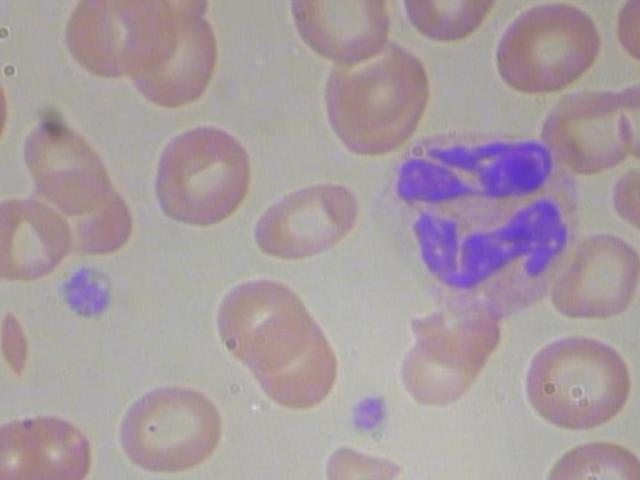Platelets: (300, 25, 444, 167), (0, 178, 82, 287)
RBC: (508, 319, 640, 447), (138, 112, 271, 238), (99, 366, 238, 480), (472, 0, 612, 109), (228, 299, 350, 421), (6, 109, 129, 230), (204, 264, 322, 385), (108, 14, 237, 123), (242, 171, 368, 269), (384, 317, 499, 419), (537, 221, 640, 331), (282, 0, 402, 73), (389, 0, 509, 54), (92, 0, 221, 32), (0, 191, 3, 301), (269, 0, 389, 1)
WBC: (521, 80, 631, 188)
